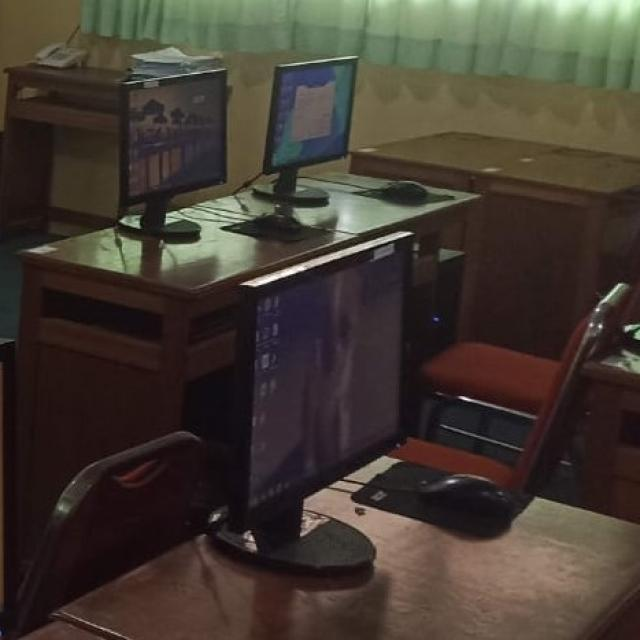onscreen: (248, 234, 409, 507), (120, 69, 225, 207), (264, 56, 356, 172), (268, 56, 358, 169)
